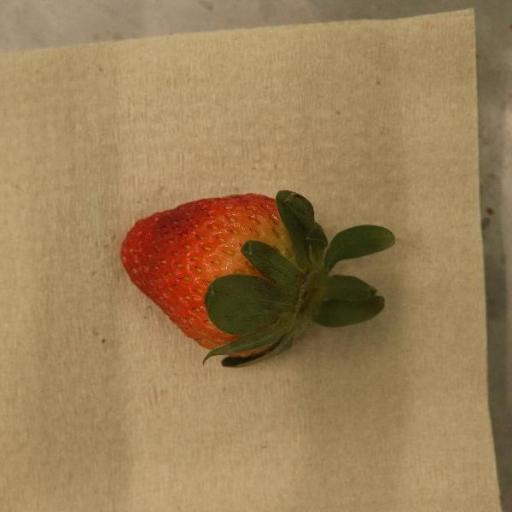Strawberry: (121, 190, 398, 369)
